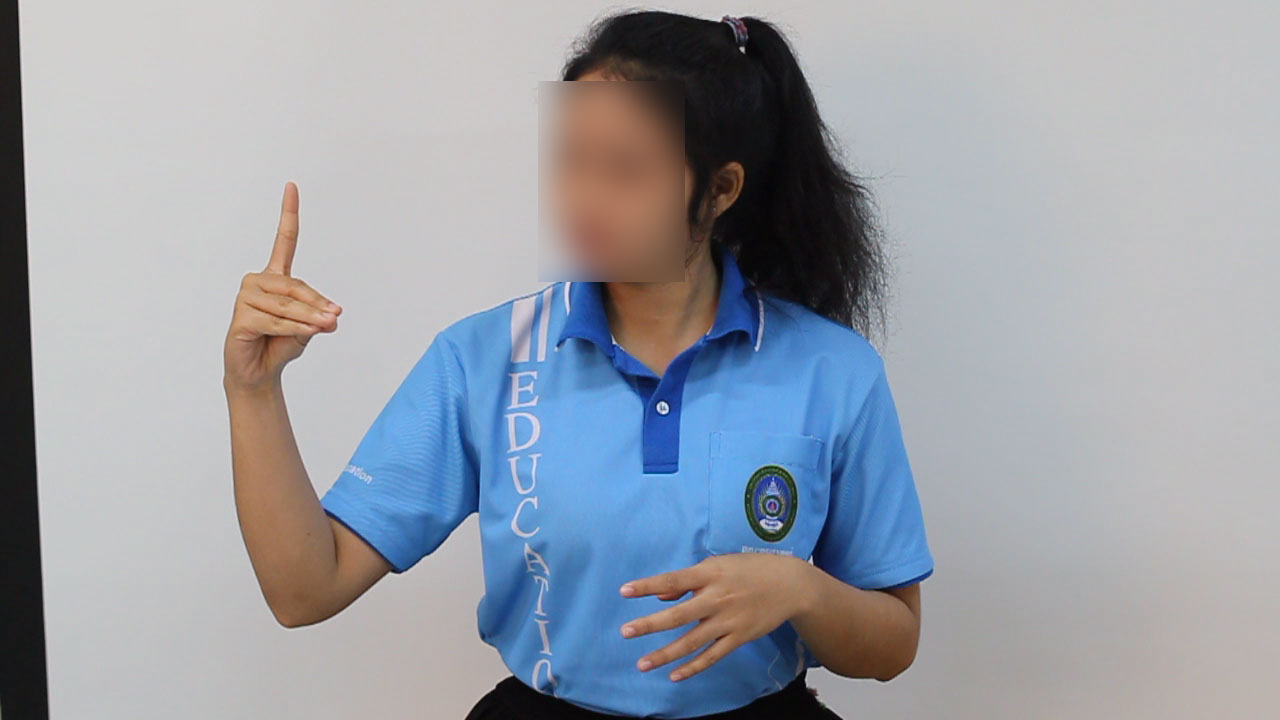dor: (215, 166, 353, 395)
